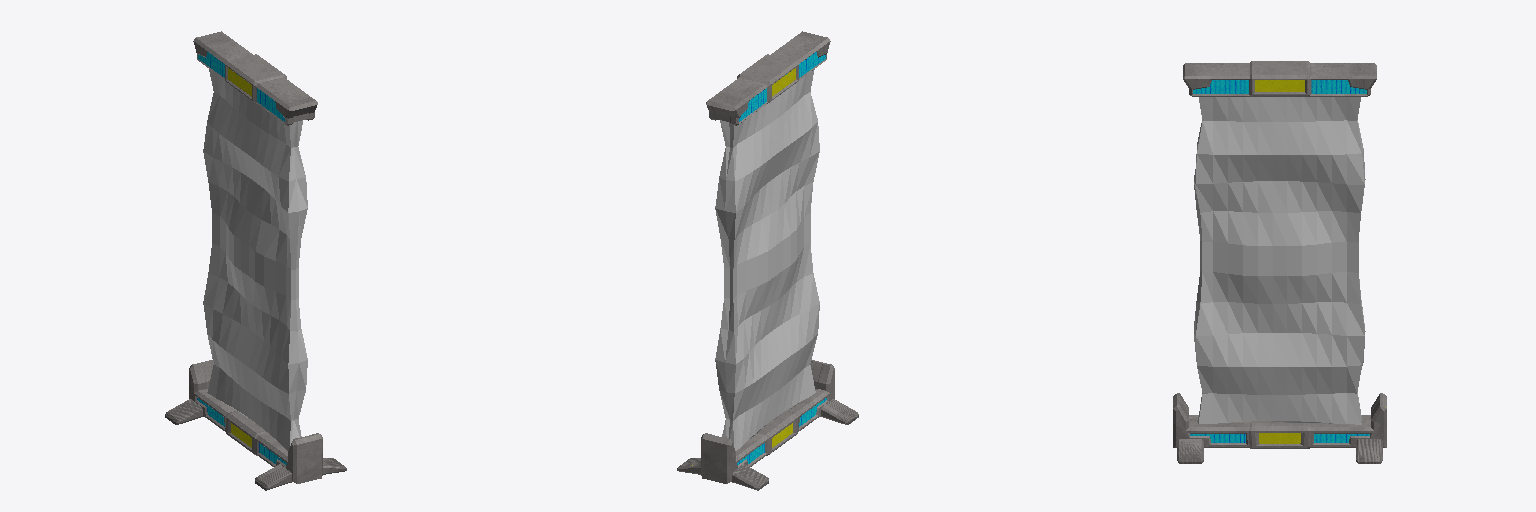
The picture shows the model from 3 angles: view 1: azimuth 30°, elevation 25°; view 2: azimuth 150°, elevation 25°; view 3: azimuth 270°, elevation 25°; orthographic projection.
Visible parts, largest first — view 1: portal1.001, Cube.004, Cube.006, Cube.005; view 2: portal1.001, Cube.004, Cube.006, Cube.005; view 3: portal1.001, Cube.004, Cube.006, Cube.005.
Part boxes in pixels (left/top/right/bottom): portal1.001: left=203, top=69, right=307, bottom=450; Cube.004: left=193, top=31, right=317, bottom=125; Cube.006: left=189, top=360, right=322, bottom=483; Cube.005: left=165, top=399, right=346, bottom=490; portal1.001: left=715, top=69, right=819, bottom=450; Cube.004: left=706, top=31, right=830, bottom=125; Cube.006: left=701, top=360, right=834, bottom=483; Cube.005: left=677, top=399, right=858, bottom=490; portal1.001: left=1194, top=97, right=1365, bottom=424; Cube.004: left=1183, top=61, right=1376, bottom=96; Cube.006: left=1173, top=393, right=1386, bottom=448; Cube.005: left=1177, top=439, right=1382, bottom=463.
Size of the model in its own units: 0.5099 by 2.26 by 1.16.
2 materials, 1 textured.